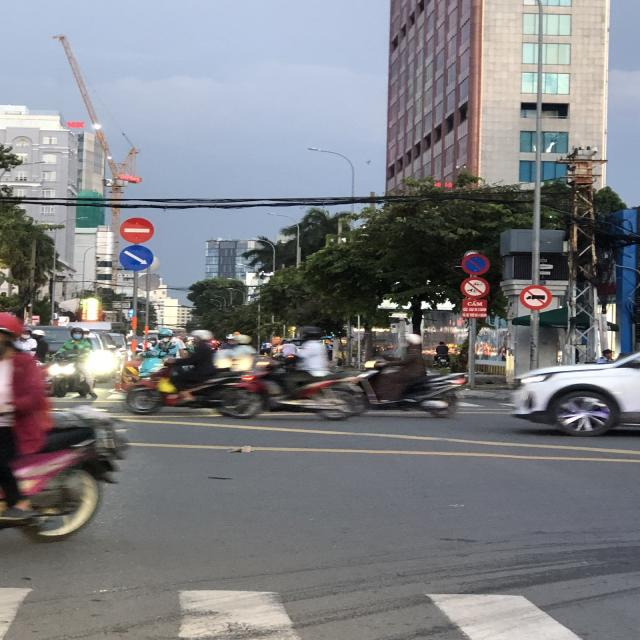Bien bao cam di nguoc chieu: (117, 214, 156, 243), (116, 216, 156, 244)
Bien bao cam do xe: (460, 252, 489, 275)
Bien bao cam xe so-mi ro-mooc: (519, 282, 552, 310)
Bien bao huong phai di vong chuong ngai vat: (117, 244, 156, 271)
